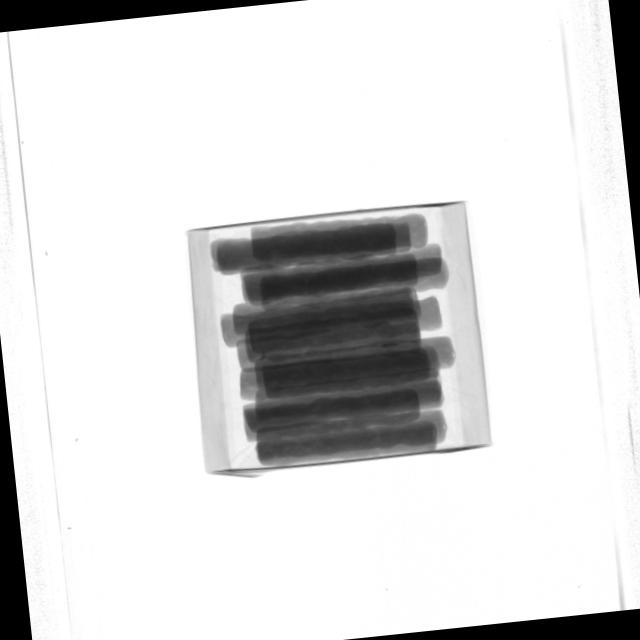ym: (259, 348, 268, 363), (382, 341, 400, 348)
